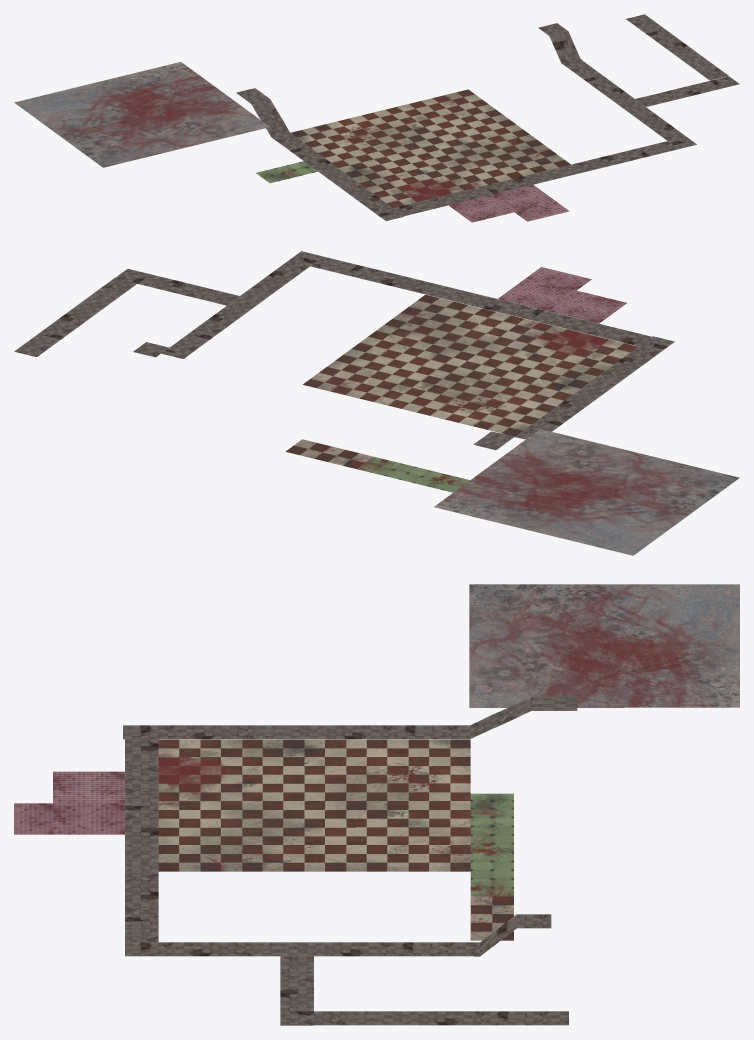
Rendered from 2S_1_Ceiling.fbx.
3 renders of one model, top to bottom at view 1: azimuth 30°, elevation 25°; view 2: azimuth 150°, elevation 25°; view 3: azimuth 270°, elevation 25°, orthographic. The views are drawn at different scales.
Parts seen in each view (by area): view 1: 2S_1F_KitchenCeiling1, 2S_Convey_Ceiling, 1S_HallwayCeiling, 1S_ToiletCeiling, 2S_1F_KitchenCeiling2; view 2: 2S_1F_KitchenCeiling1, 2S_Convey_Ceiling, 1S_HallwayCeiling, 1S_ToiletCeiling, 2S_1F_KitchenCeiling2; view 3: 2S_1F_KitchenCeiling1, 2S_Convey_Ceiling, 1S_HallwayCeiling, 2S_1F_KitchenCeiling2, 1S_ToiletCeiling.
Part boxes in pixels (bbox=[...]): 2S_1F_KitchenCeiling1: bbox=[290, 89, 570, 207]; 2S_Convey_Ceiling: bbox=[14, 62, 269, 167]; 1S_HallwayCeiling: bbox=[236, 14, 739, 220]; 1S_ToiletCeiling: bbox=[449, 184, 569, 222]; 2S_1F_KitchenCeiling2: bbox=[256, 161, 317, 183]; 2S_1F_KitchenCeiling1: bbox=[302, 294, 637, 436]; 2S_Convey_Ceiling: bbox=[434, 429, 739, 555]; 1S_HallwayCeiling: bbox=[14, 251, 674, 450]; 1S_ToiletCeiling: bbox=[498, 267, 626, 323]; 2S_1F_KitchenCeiling2: bbox=[285, 439, 469, 492]; 2S_1F_KitchenCeiling1: bbox=[158, 739, 470, 871]; 2S_Convey_Ceiling: bbox=[469, 584, 739, 707]; 1S_HallwayCeiling: bbox=[123, 696, 577, 1025]; 2S_1F_KitchenCeiling2: bbox=[470, 793, 513, 940]; 1S_ToiletCeiling: bbox=[14, 771, 124, 834].
Bounding box in the file's own units: 210 × 22.58 × 152.
